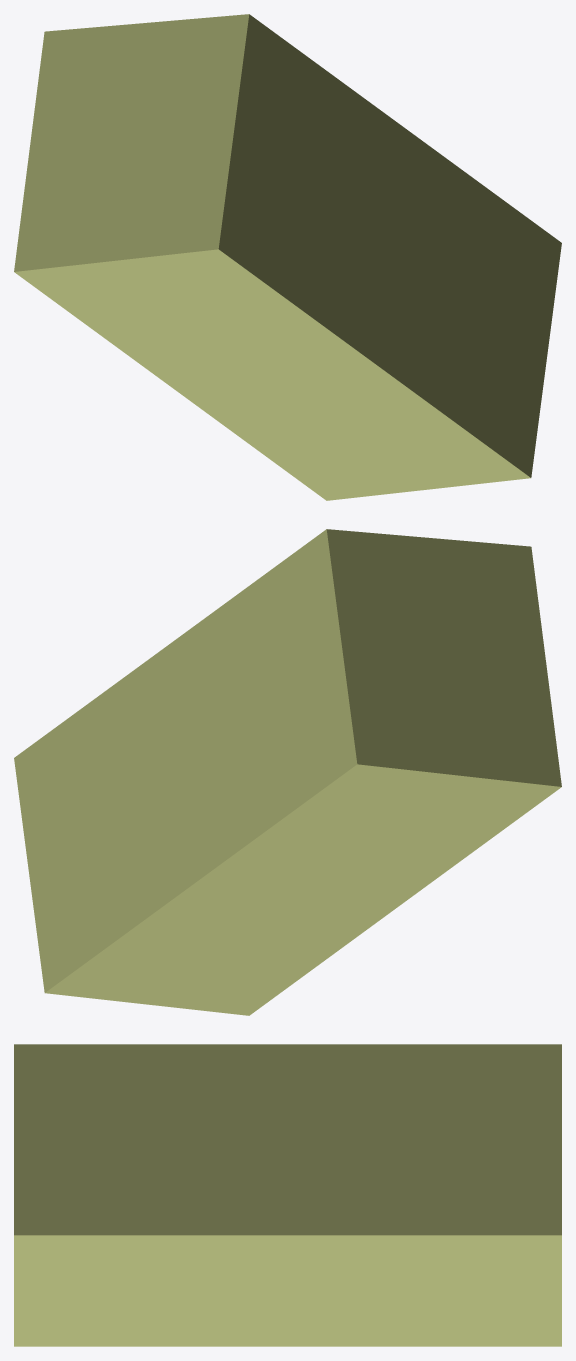
The picture shows the model from 3 angles, top to bottom: view 1: azimuth 30°, elevation 25°; view 2: azimuth 150°, elevation 25°; view 3: azimuth 270°, elevation 25°; orthographic projection. The views are drawn at different scales.
Parts seen in each view (by area): view 1: 0_1_2_0_1_3_3_0_1_1_2_2; view 2: 0_1_2_0_1_3_3_0_1_1_2_2; view 3: 0_1_2_0_1_3_3_0_1_1_2_2.
Boxes of the visible parts, x1,y1,x2,y2 form: 0_1_2_0_1_3_3_0_1_1_2_2: (14,14,561,500); 0_1_2_0_1_3_3_0_1_1_2_2: (14,529,561,1015); 0_1_2_0_1_3_3_0_1_1_2_2: (14,1044,561,1346).
Size of the model in its own units: 2.61 by 2.75 by 6.
